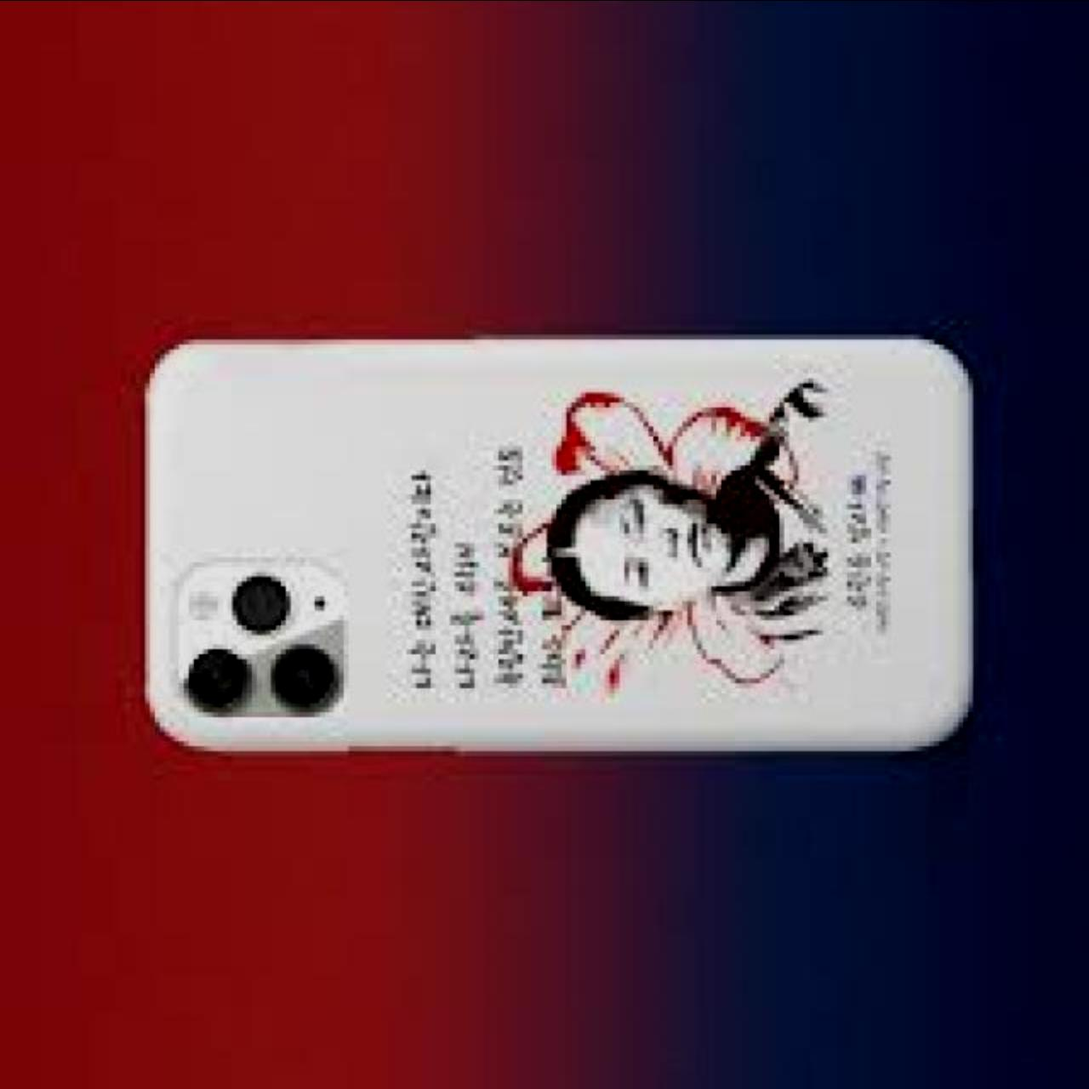phone: (124, 330, 987, 767)
